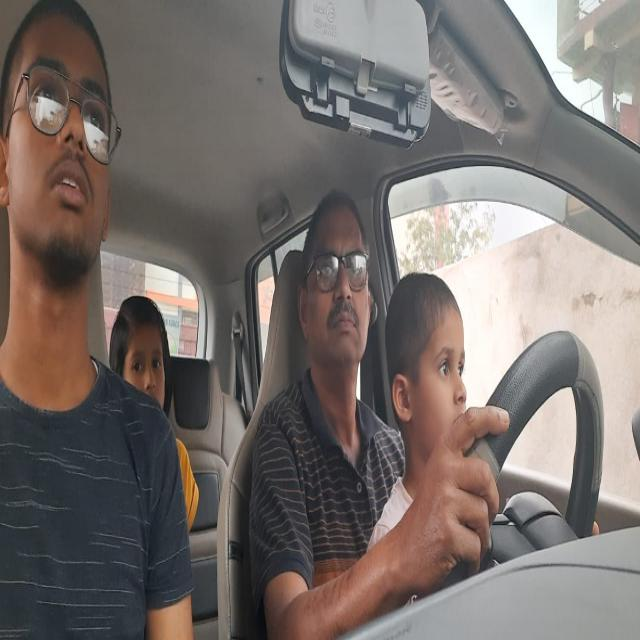child: (385, 267, 471, 488)
person: (4, 0, 121, 336), (296, 186, 376, 400), (110, 293, 172, 407)
